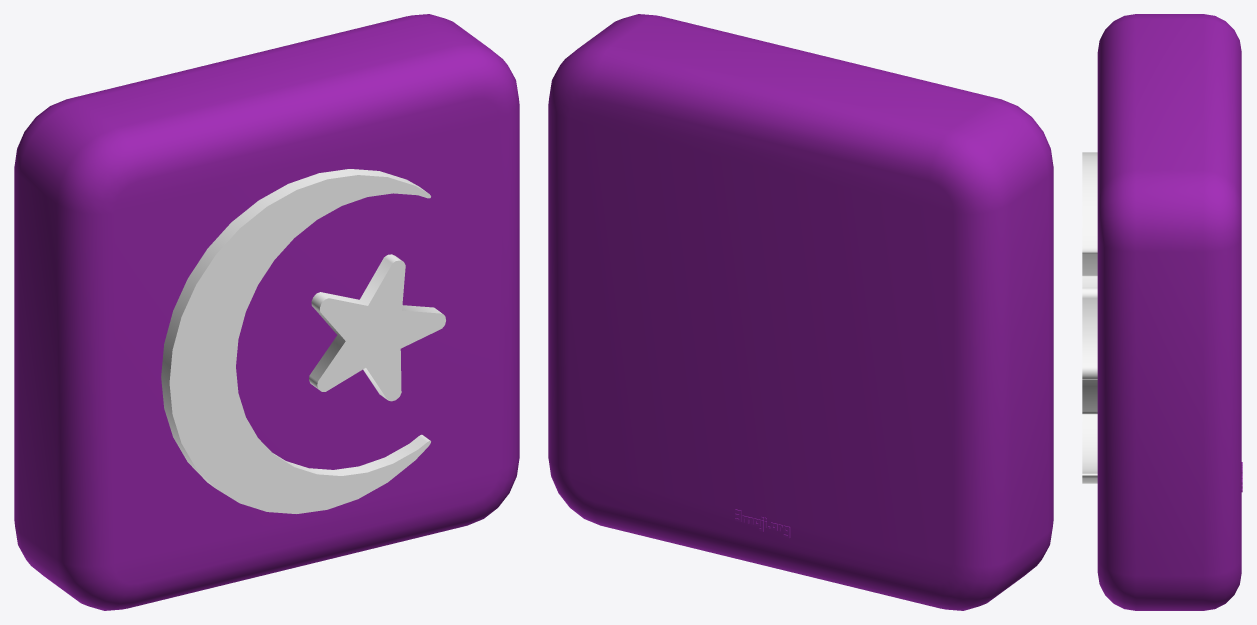
The model's file is star_and_crescent.glb.
3 renders of one model, left to right at view 1: azimuth 30°, elevation 25°; view 2: azimuth 150°, elevation 25°; view 3: azimuth 270°, elevation 25°, orthographic. The views are drawn at different scales.
Visible parts, largest first — view 1: Cube.6394; view 2: Cube.6394; view 3: Cube.6394.
Boxes of the visible parts, x1,y1,x2,y2 form: Cube.6394: (14,14,519,610); Cube.6394: (548,14,1053,610); Cube.6394: (1082,14,1242,610).
Size of the model in its own units: 2.2 by 2.2 by 0.7337.
Materials: 1 (1 with a texture image).
